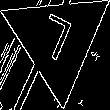L_SW: (35, 11, 80, 70)
